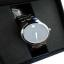watch: (19, 17, 52, 47)
